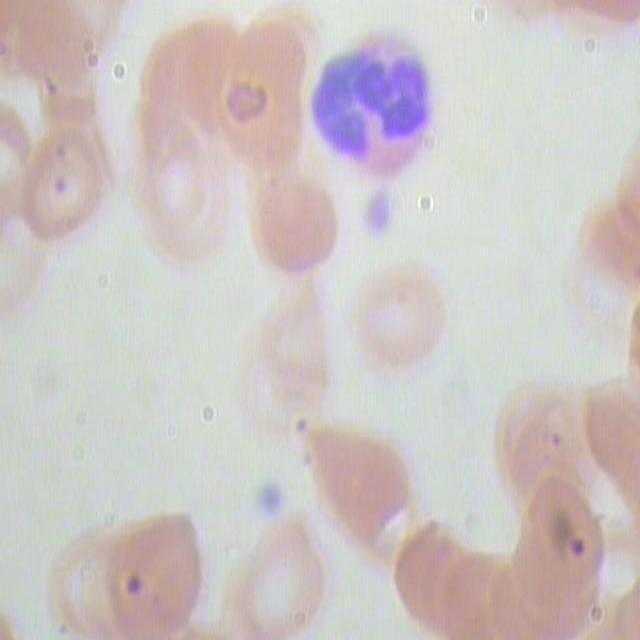Platelets: (358, 180, 401, 240), (249, 464, 292, 524)
RBC: (299, 424, 415, 560), (499, 470, 613, 602), (104, 498, 211, 638), (239, 280, 343, 408), (7, 130, 111, 258), (210, 22, 314, 150), (493, 382, 597, 509), (346, 268, 456, 379), (243, 175, 353, 285), (232, 522, 336, 638), (149, 159, 235, 268), (14, 0, 95, 100), (137, 28, 211, 131), (444, 550, 512, 638)
WBC: (301, 24, 451, 179)
